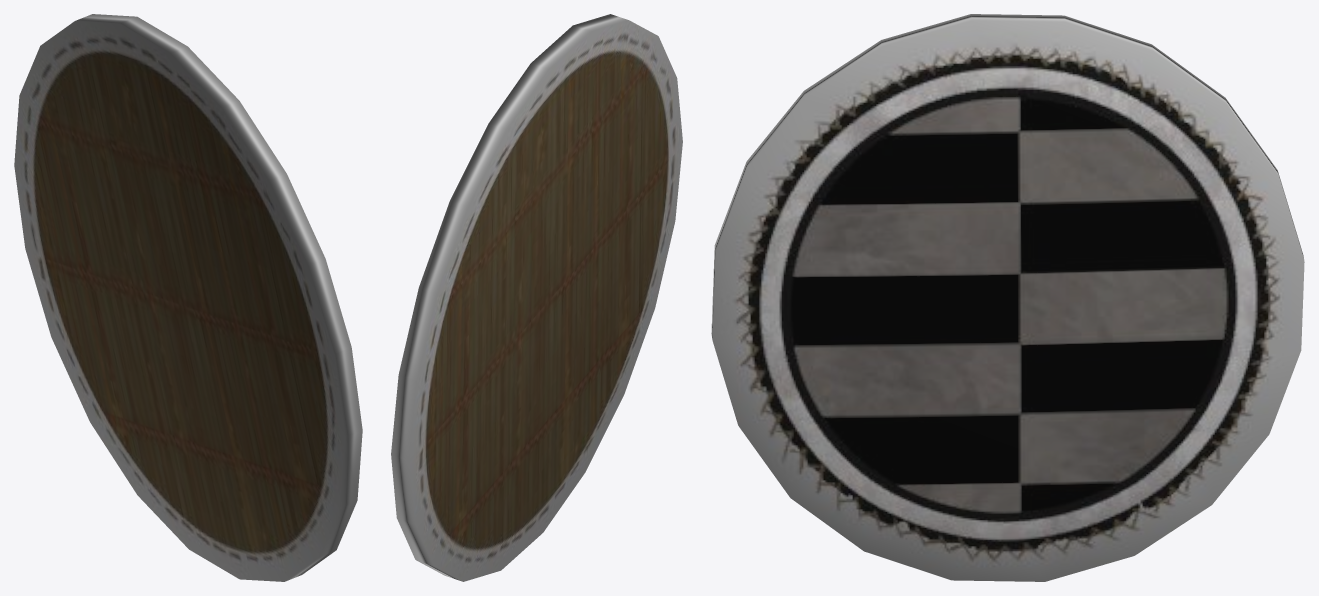
The model's file is shield-featheredshields.glb.
The picture shows the model from 3 angles, left to right: view 1: azimuth 30°, elevation 25°; view 2: azimuth 150°, elevation 25°; view 3: azimuth 270°, elevation 25°; orthographic projection.
Bounding box in the file's own units: 0.0901 × 0.5474 × 0.5483.
1 material, 1 textured.
